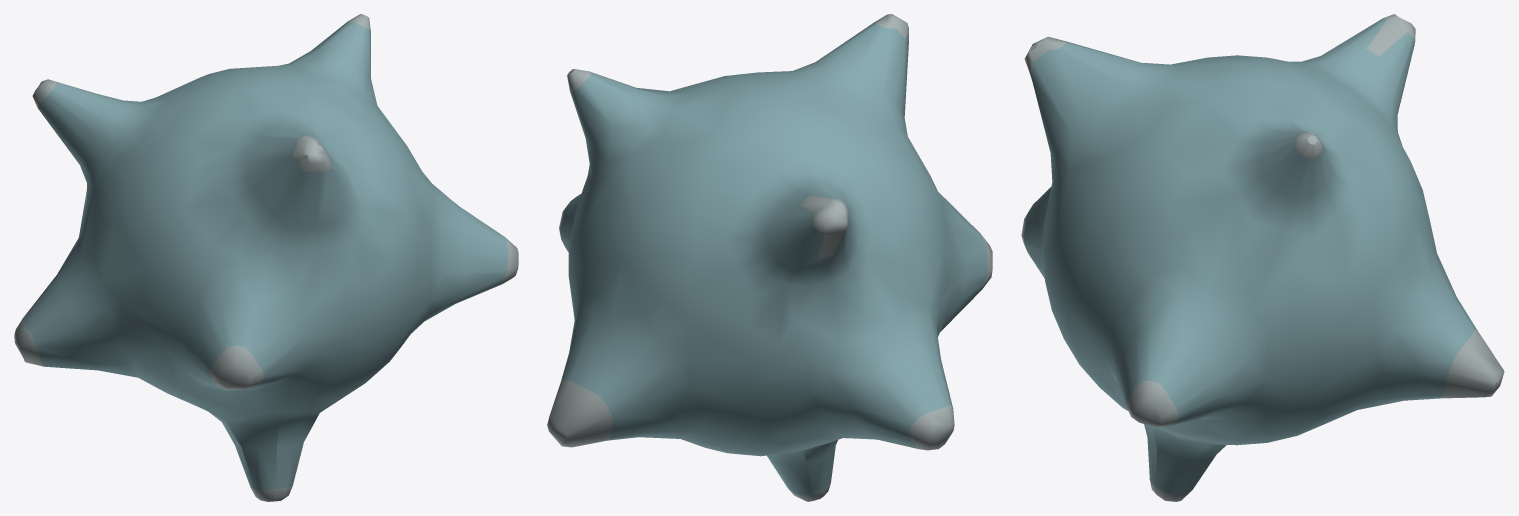
Rendered from planet-4.glb.
3 views of the same model, side by side, from view 1: azimuth 30°, elevation 25°; view 2: azimuth 150°, elevation 25°; view 3: azimuth 270°, elevation 25° (orthographic). The views are drawn at different scales.
Visible parts, largest first — view 1: Planet_4; view 2: Planet_4; view 3: Planet_4.
Part boxes in pixels (x1=…): Planet_4: x1=14, y1=14, x2=518, y2=501; Planet_4: x1=547, y1=14, x2=992, y2=501; Planet_4: x1=1021, y1=14, x2=1504, y2=501.
Bounding box in the file's own units: 4.49 × 4.08 × 3.96.
